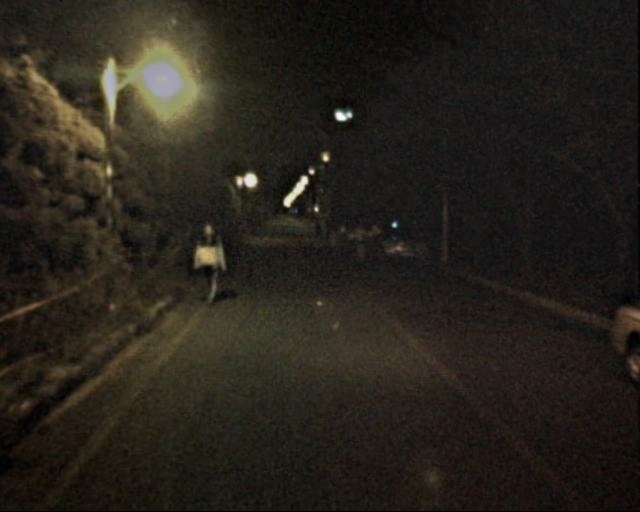person: (191, 219, 225, 302), (352, 221, 371, 267), (315, 217, 334, 247)
